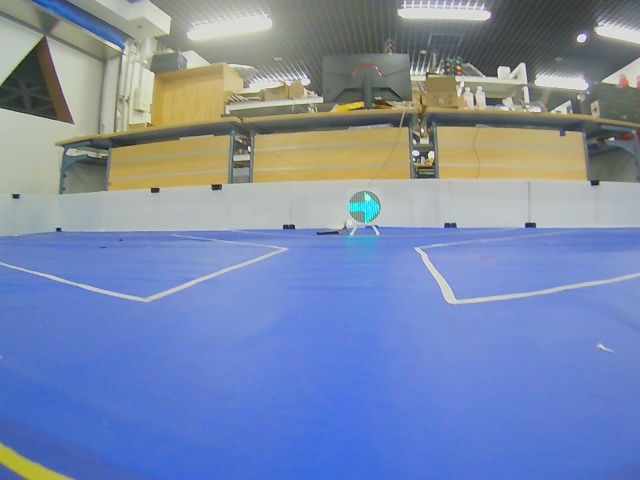right_green: (348, 190, 381, 224)
